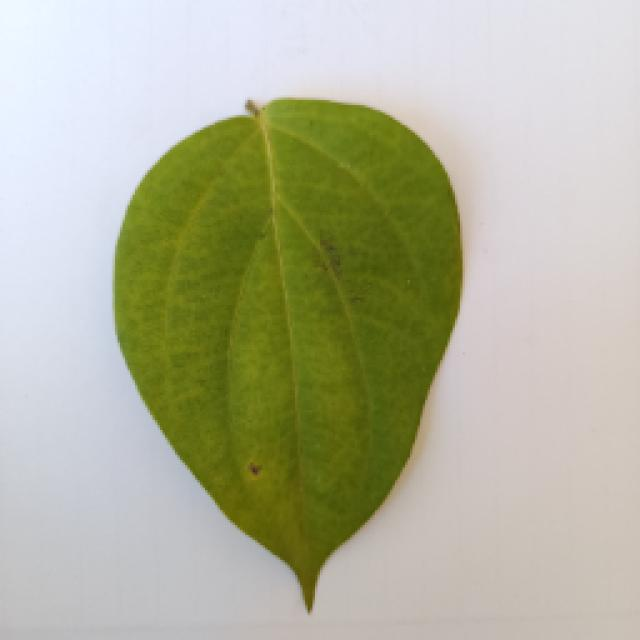slow-decline: (98, 95, 468, 607)
